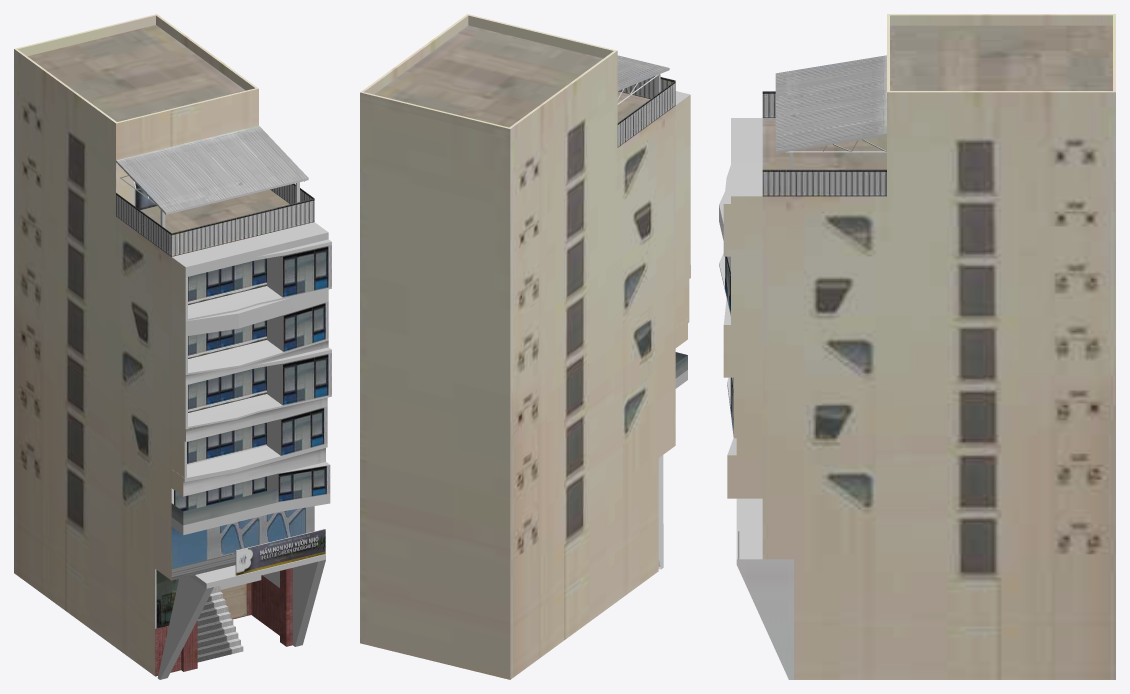
3 views of the same model, side by side, from view 1: azimuth 30°, elevation 25°; view 2: azimuth 150°, elevation 25°; view 3: azimuth 270°, elevation 25° (orthographic). The views are drawn at different scales.
Visible parts, largest first — view 1: HN850_TruongMNKhuVuonNho; view 2: HN850_TruongMNKhuVuonNho; view 3: HN850_TruongMNKhuVuonNho.
Boxes of the visible parts, x1,y1,x2,y2 form: HN850_TruongMNKhuVuonNho: (14, 14, 331, 679); HN850_TruongMNKhuVuonNho: (360, 14, 690, 679); HN850_TruongMNKhuVuonNho: (719, 14, 1115, 679).
Bounding box in the file's own units: 9.7 × 34.01 × 20.81.
Materials: 1 (1 with a texture image).
